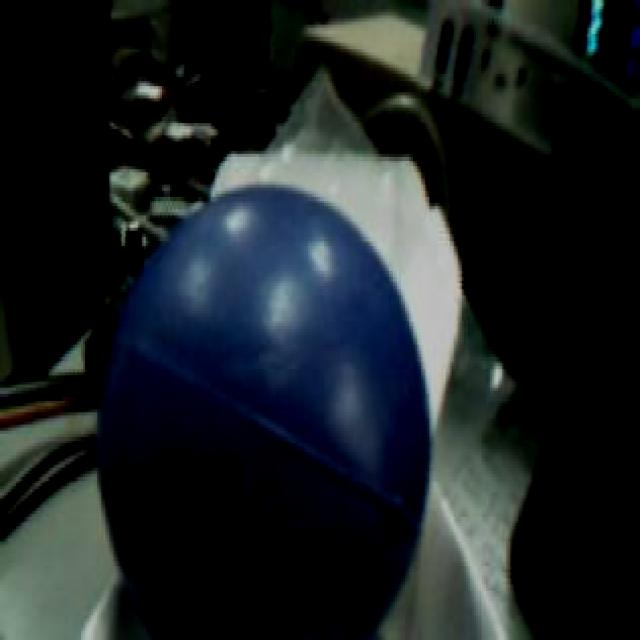BallPurple: (95, 184, 431, 640)
